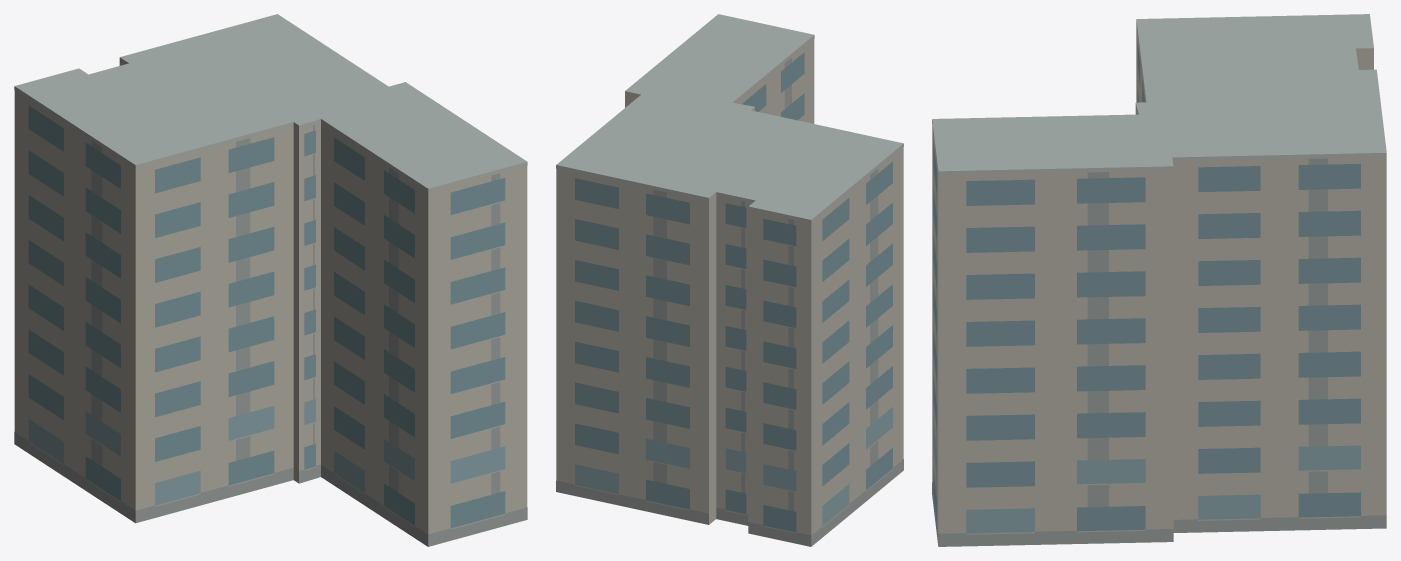
The model's file is survey-upis-32994578.glb.
3 views of the same model, side by side, from view 1: azimuth 30°, elevation 25°; view 2: azimuth 150°, elevation 25°; view 3: azimuth 270°, elevation 25° (orthographic). The views are drawn at different scales.
Visible parts, largest first — view 1: survey-upis-32994578.tmp; view 2: survey-upis-32994578.tmp; view 3: survey-upis-32994578.tmp.
Boxes of the visible parts, box(x1,y1,x2,y2) form: survey-upis-32994578.tmp: box(14, 14, 527, 546); survey-upis-32994578.tmp: box(556, 14, 903, 546); survey-upis-32994578.tmp: box(932, 14, 1386, 546).
Bounding box in the file's own units: 19.09 × 21.25 × 23.32.
